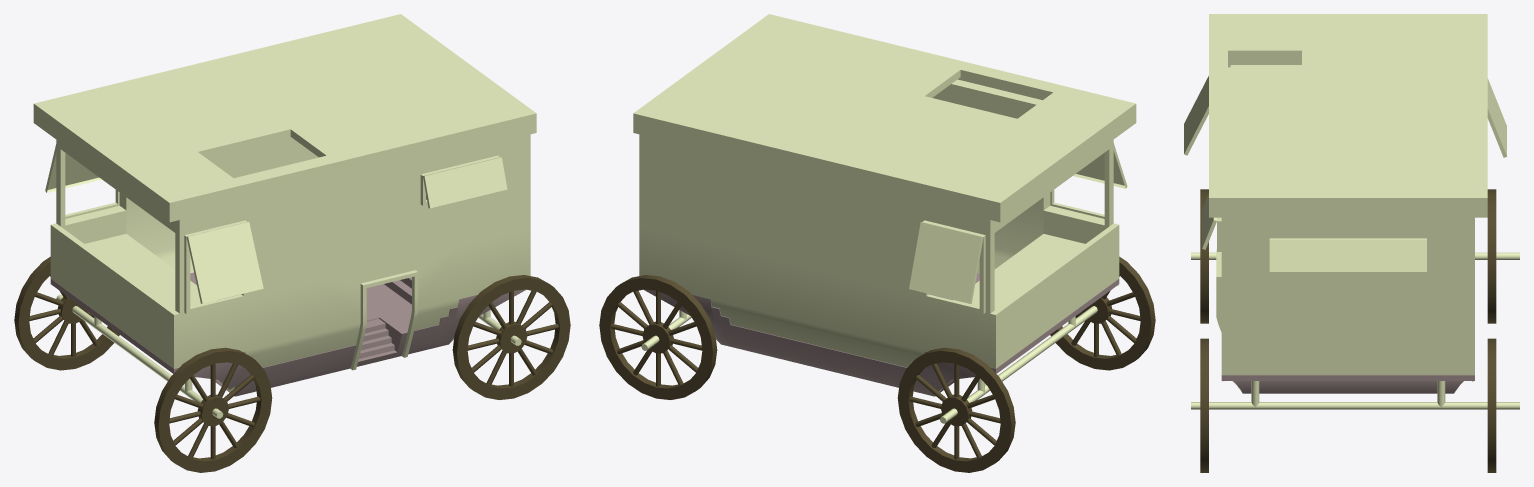
The model's file is _agon_5x3.fbx.
3 renders of one model, left to right at view 1: azimuth 30°, elevation 25°; view 2: azimuth 150°, elevation 25°; view 3: azimuth 270°, elevation 25°, orthographic. The views are drawn at different scales.
Parts seen in each view (by area): view 1: Body, Wheel, Bottom; view 2: Body, Wheel, Bottom; view 3: Body, Wheel, Bottom.
Part boxes in pixels (bbox=[...]): Body: bbox=[33, 14, 536, 418]; Wheel: bbox=[14, 256, 570, 472]; Bottom: bbox=[50, 272, 525, 396]; Body: bbox=[633, 14, 1136, 423]; Wheel: bbox=[599, 256, 1155, 472]; Bottom: bbox=[644, 273, 1119, 396]; Body: bbox=[1184, 14, 1519, 409]; Wheel: bbox=[1200, 189, 1496, 472]; Bottom: bbox=[1221, 375, 1474, 393].
Bounding box in the file's own units: 578 × 369 × 398.
